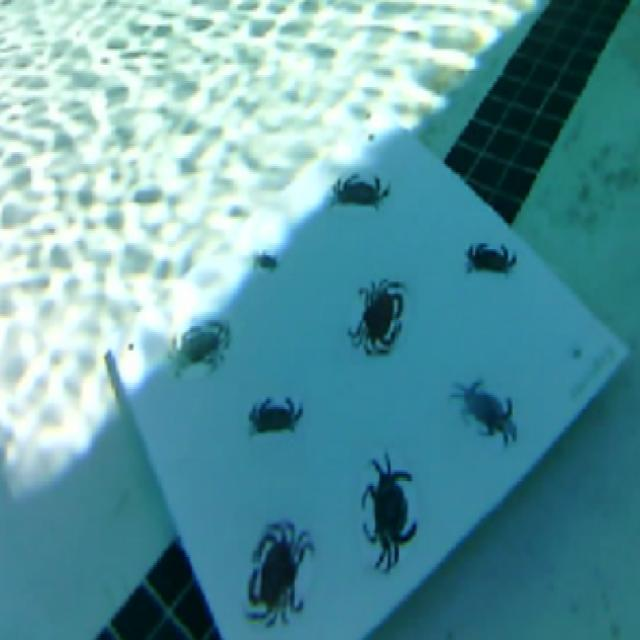green_crab: (351, 447, 423, 578), (448, 368, 522, 448), (244, 237, 285, 280)
jonah_crab: (239, 513, 314, 625), (343, 274, 416, 364), (162, 310, 240, 378)
rock_crab: (326, 159, 392, 209), (242, 390, 304, 439), (461, 236, 522, 281)
